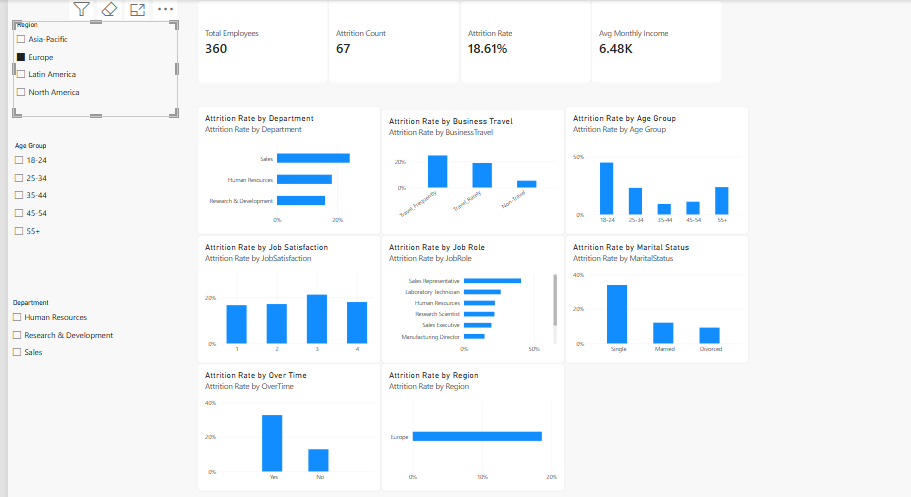

This screenshot's page, from the dashboard's own definition file:
{"tool":"powerbi","page":{"name":"Dashboard","canvas":[1920,1080],"ordinal":0},"visuals":[{"type":"slicer","fields":{"Values":["HR.Region"]},"box":[11.7,44.3,349.5,205],"z":0},{"type":"slicer","fields":{"Values":["HR.Age Group"]},"box":[7,302.9,349.5,237.7],"z":1000},{"type":"slicer","fields":{"Values":["HR.Department"]},"box":[2.3,636.1,358.8,281.9],"z":2000},{"type":"cardVisual","fields":{"Data":["HR.Total Employees"]},"box":[400.8,0,279.6,177.1],"z":3000},{"type":"cardVisual","fields":{"Data":["HR.Attrition Count"]},"box":[680.4,0,279.6,177.1],"z":4000},{"type":"cardVisual","fields":{"Data":["HR.Attrition Rate"]},"box":[960,0,279.6,177.1],"z":5000},{"type":"cardVisual","fields":{"Data":["HR.Avg Monthly Income"]},"box":[1239.6,0,279.6,177.1],"z":6000},{"type":"clusteredBarChart","title":"Attrition Rate by Department","fields":{"Category":["HR.Department"],"Y":["HR.Attrition Rate"]},"box":[400.8,226,391.5,272.6],"z":7000},{"type":"clusteredColumnChart","title":"Attrition Rate by Age Group","fields":{"Category":["HR.Age Group"],"Y":["HR.Attrition Rate"]},"box":[1183.7,226,391.5,272.6],"z":8000},{"type":"clusteredBarChart","title":"Attrition Rate by Job Role","fields":{"Category":["HR.JobRole"],"Y":["HR.Attrition Rate"]},"box":[792.2,498.6,391.5,272.6],"z":8001},{"type":"clusteredColumnChart","title":"Attrition Rate by Over Time","fields":{"Category":["HR.OverTime"],"Y":["HR.Attrition Rate"]},"box":[400.8,771.3,391.5,272.6],"z":8002},{"type":"clusteredColumnChart","title":"Attrition Rate by Business Travel","fields":{"Category":["HR.BusinessTravel"],"Y":["HR.Attrition Rate"]},"box":[792.2,230.7,391.5,268],"z":8003},{"type":"clusteredColumnChart","title":"Attrition Rate by Job Satisfaction","fields":{"Category":["HR.JobSatisfaction"],"Y":["HR.Attrition Rate"]},"box":[400.8,498.6,391.5,272.6],"z":8004},{"type":"clusteredColumnChart","title":"Attrition Rate by Marital Status","fields":{"Category":["HR.MaritalStatus"],"Y":["HR.Attrition Rate"]},"box":[1183.7,498.6,391.5,272.6],"z":8005},{"type":"clusteredBarChart","title":"Attrition Rate by Region","fields":{"Category":["HR.Region"],"Y":["HR.Attrition Rate"]},"box":[792.2,771.3,391.5,272.6],"z":8006}]}

Visuals, with their boxes on the page's 1920x1080 design canvas (x1, y1, x2, y2). These are canvas units, not pixel positions in the 911x497 screenshot, which may show the page scaled, cropped or inside an application window:
slicer - HR.Region: region(12, 44, 361, 249)
slicer - HR.Age Group: region(7, 303, 356, 541)
slicer - HR.Department: region(2, 636, 361, 918)
cardVisual - HR.Total Employees: region(401, 0, 680, 177)
cardVisual - HR.Attrition Count: region(680, 0, 960, 177)
cardVisual - HR.Attrition Rate: region(960, 0, 1240, 177)
cardVisual - HR.Avg Monthly Income: region(1240, 0, 1519, 177)
"Attrition Rate by Department" clusteredBarChart: region(401, 226, 792, 499)
"Attrition Rate by Age Group" clusteredColumnChart: region(1184, 226, 1575, 499)
"Attrition Rate by Job Role" clusteredBarChart: region(792, 499, 1184, 771)
"Attrition Rate by Over Time" clusteredColumnChart: region(401, 771, 792, 1044)
"Attrition Rate by Business Travel" clusteredColumnChart: region(792, 231, 1184, 499)
"Attrition Rate by Job Satisfaction" clusteredColumnChart: region(401, 499, 792, 771)
"Attrition Rate by Marital Status" clusteredColumnChart: region(1184, 499, 1575, 771)
"Attrition Rate by Region" clusteredBarChart: region(792, 771, 1184, 1044)
